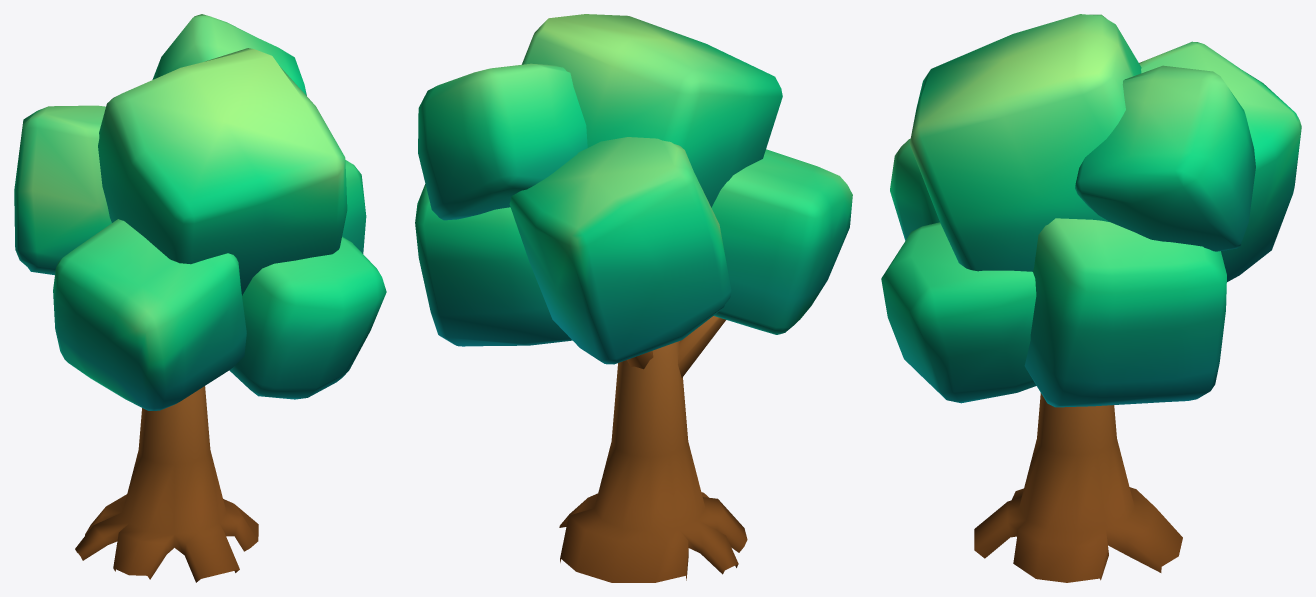
The model's file is Tree_Cube_Spring.fbx.
3 renders of one model, left to right at view 1: azimuth 30°, elevation 25°; view 2: azimuth 150°, elevation 25°; view 3: azimuth 270°, elevation 25°, orthographic. The views are drawn at different scales.
Visible parts, largest first — view 1: Tree_Cube_Spring; view 2: Tree_Cube_Spring; view 3: Tree_Cube_Spring.
Boxes of the visible parts, x1,y1,x2,y2 form: Tree_Cube_Spring: [14, 14, 386, 582]; Tree_Cube_Spring: [415, 14, 852, 582]; Tree_Cube_Spring: [881, 14, 1301, 582].
Bounding box in the file's own units: 126 × 171 × 124.
